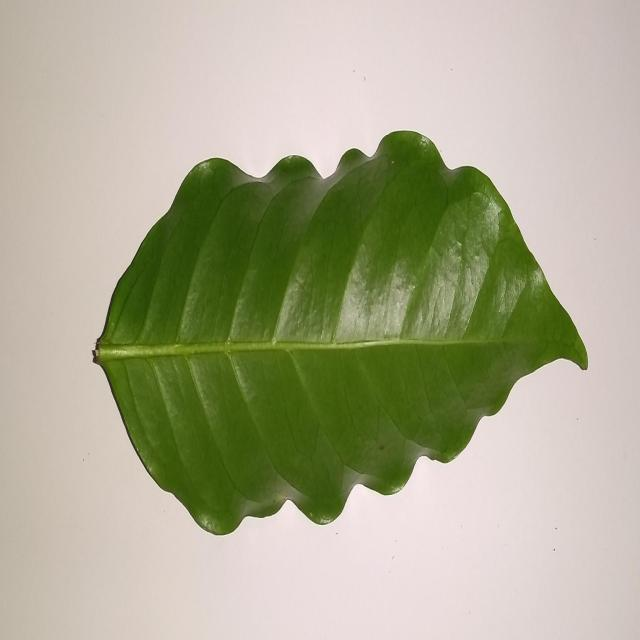nodisease: (93, 131, 588, 534)
